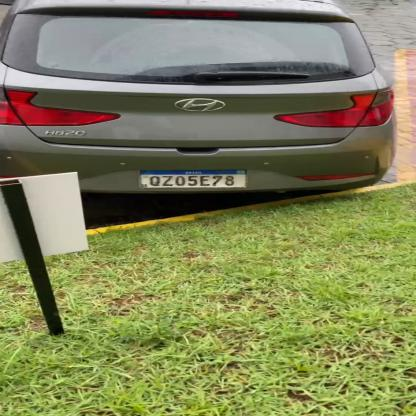Plate: (136, 165, 254, 191)
